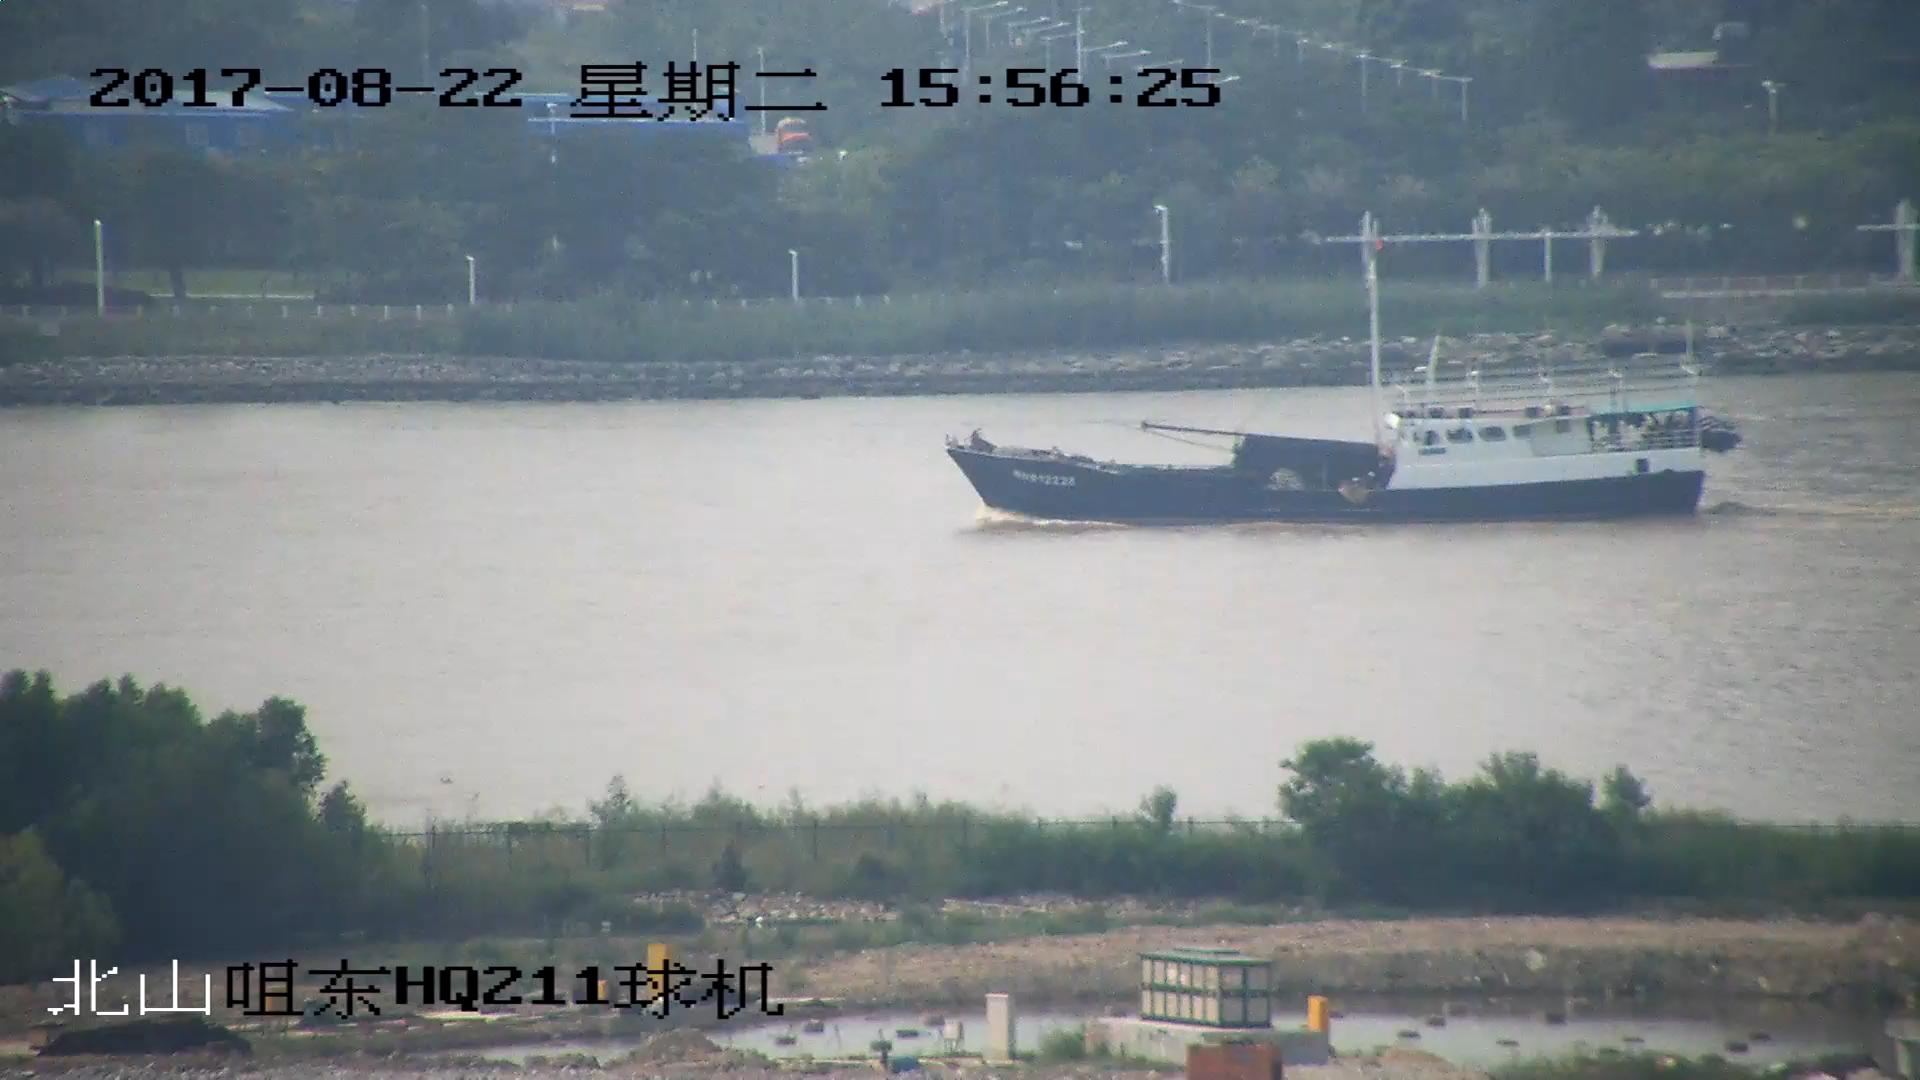fishing boat: (947, 243, 1740, 519)
